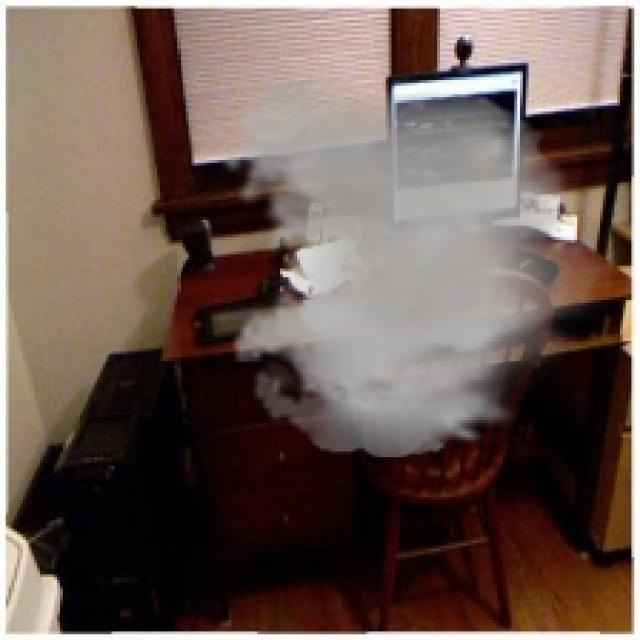smoke: (220, 74, 623, 457)
